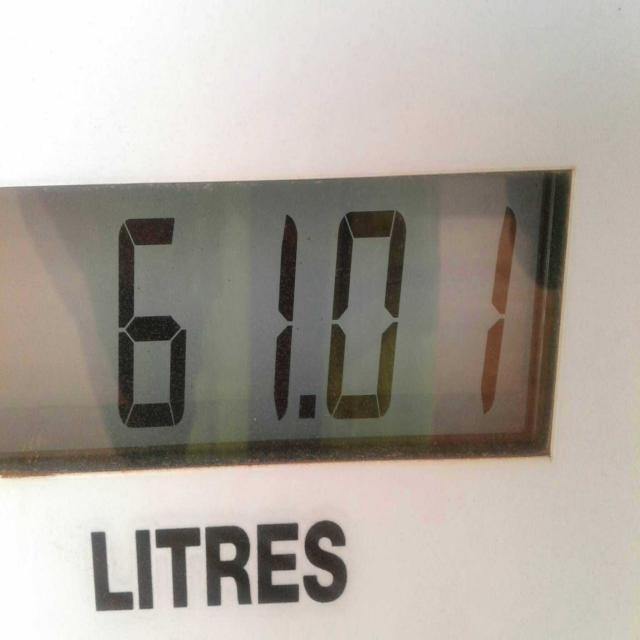.: (301, 393, 316, 420)
0: (330, 214, 402, 422)
1: (477, 203, 519, 410), (278, 214, 297, 414)
6: (118, 218, 188, 426)
